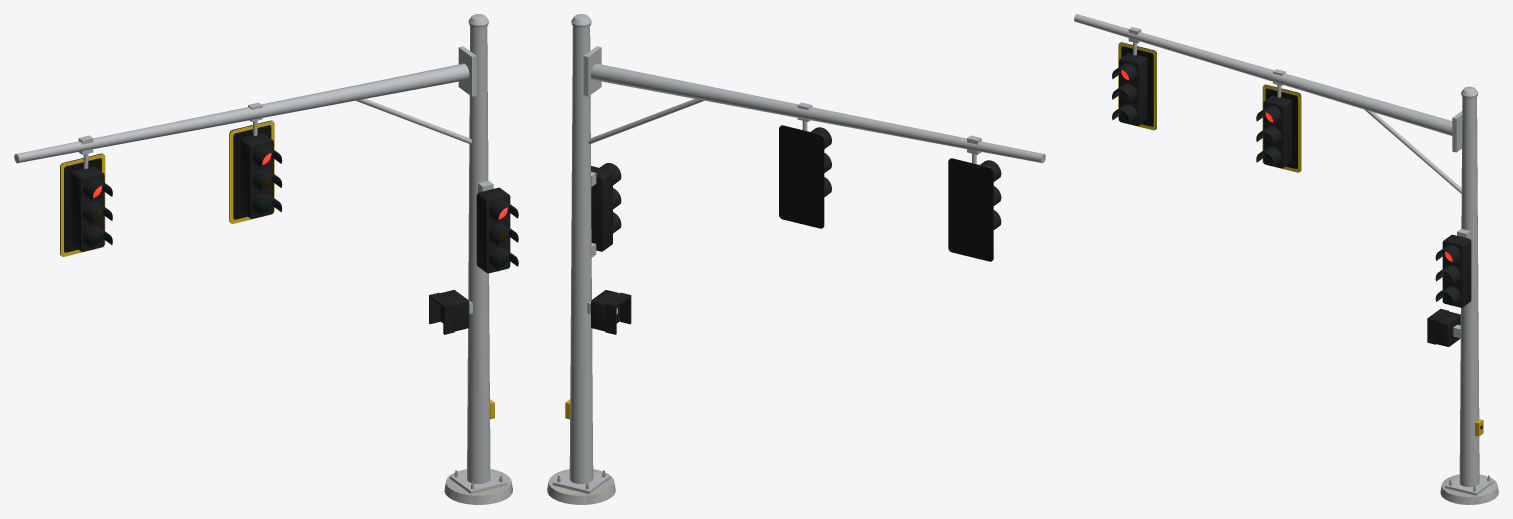
Rendered from traffic-signal.glb.
3 views of the same model, side by side, from view 1: azimuth 30°, elevation 25°; view 2: azimuth 150°, elevation 25°; view 3: azimuth 330°, elevation 25° (orthographic). The views are drawn at different scales.
Visible parts, largest first — view 1: Traffic_Signal; view 2: Traffic_Signal; view 3: Traffic_Signal.
Boxes of the visible parts, box(x1,y1,x2,y2) form: Traffic_Signal: box(14, 14, 518, 504); Traffic_Signal: box(547, 14, 1045, 504); Traffic_Signal: box(1074, 14, 1498, 504).
Bounding box in the file's own units: 7.26 × 6.7 × 1.2.
Materials: 11 (1 with a texture image).
